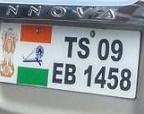0: (96, 38, 110, 61)
1: (82, 63, 93, 86)
4: (92, 64, 106, 88)
5: (106, 65, 118, 89)
8: (117, 66, 131, 91)
9: (109, 38, 123, 61)
B: (63, 63, 77, 85)
E: (51, 62, 64, 84)
S: (77, 37, 91, 60)
T: (64, 36, 78, 58)
